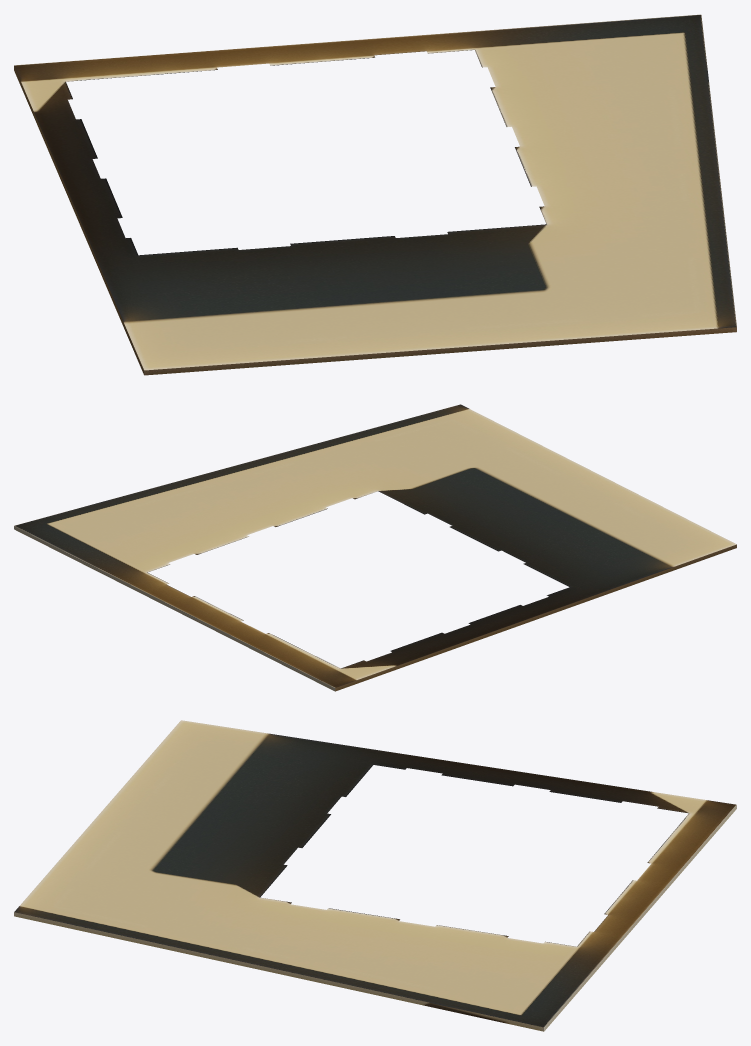
The model's file is Building_02_Rooftop.fbx.
3 renders of one model, top to bottom at view 1: azimuth 30°, elevation 25°; view 2: azimuth 150°, elevation 25°; view 3: azimuth 270°, elevation 25°, orthographic. The views are drawn at different scales.
Visible parts, largest first — view 1: Building_02_Rooftop; view 2: Building_02_Rooftop; view 3: Building_02_Rooftop.
Part boxes in pixels (box(x1,y1,x2,y2)): Building_02_Rooftop: box(14, 14, 736, 375); Building_02_Rooftop: box(14, 404, 736, 691); Building_02_Rooftop: box(14, 720, 736, 1031).
Bounding box in the file's own units: 32.76 × 0.1996 × 32.56.
1 material, 1 textured.
